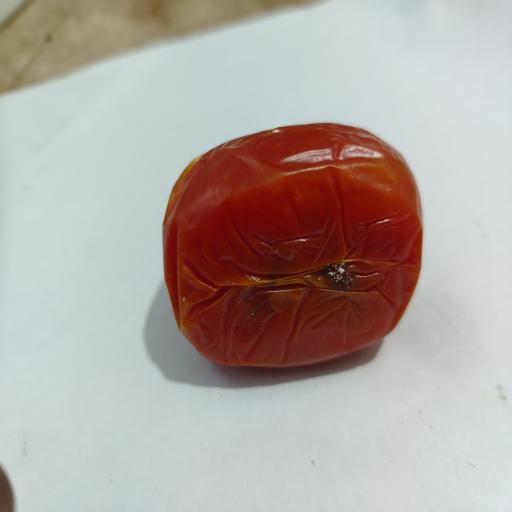spoiled: (163, 123, 422, 367)
